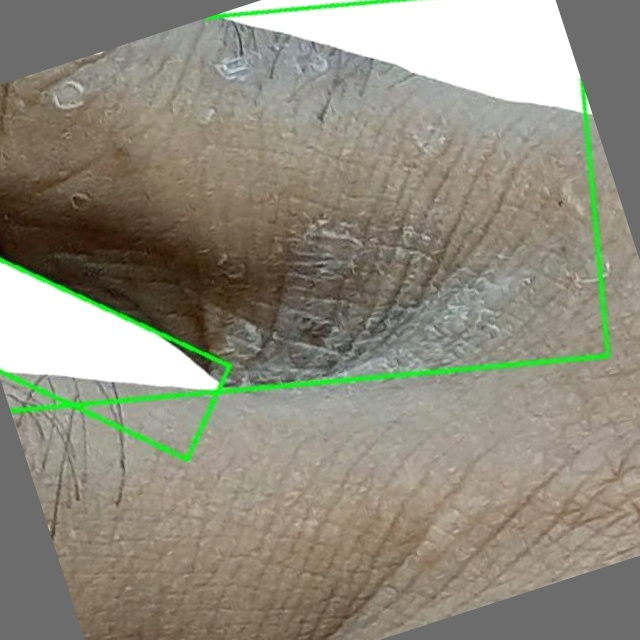Scabies: (0, 0, 607, 396), (0, 236, 236, 458)
